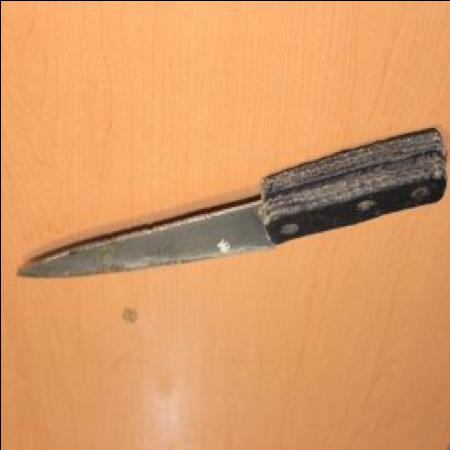long weapon: (10, 177, 282, 287)
